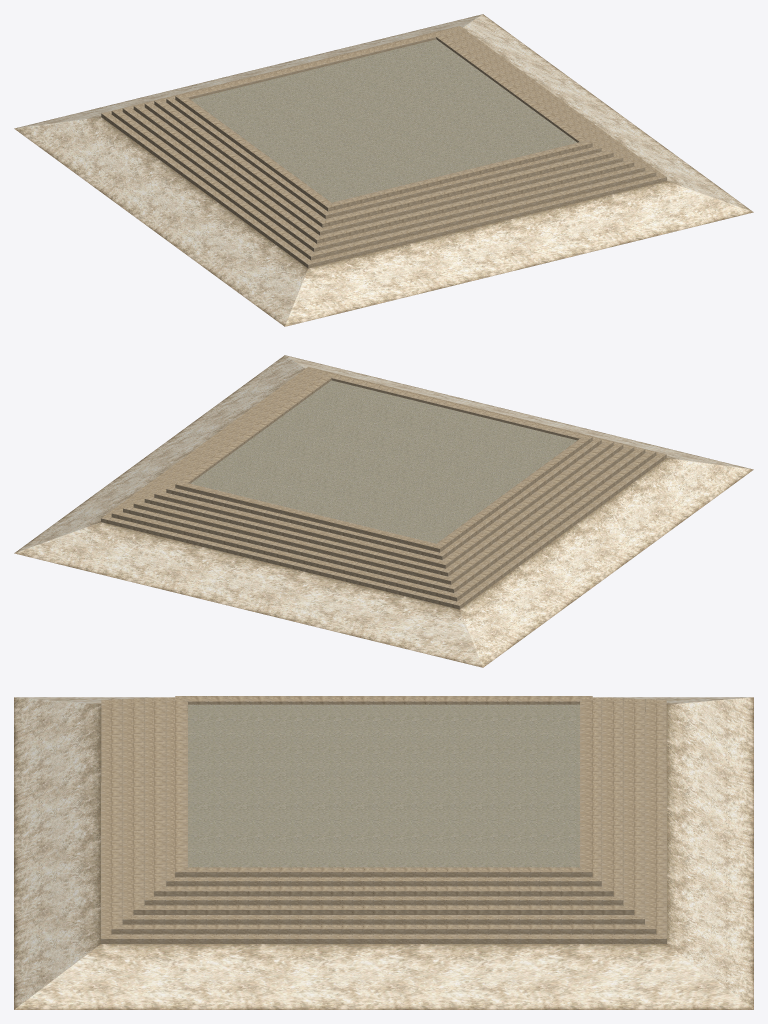
File: ply_tato_garden_med_s01_l0.fbx
The picture shows the model from 3 angles, top to bottom: view 1: azimuth 30°, elevation 25°; view 2: azimuth 150°, elevation 25°; view 3: azimuth 270°, elevation 25°; orthographic projection. The views are drawn at different scales.
Parts seen in each view (by area): view 1: mesh_node; view 2: mesh_node; view 3: mesh_node.
Part boxes in pixels (x1,y1,x2,y2): mesh_node: (14,14,753,326); mesh_node: (14,355,753,667); mesh_node: (14,696,753,1009).
Bounding box in the file's own units: 34 × 3.51 × 34.
